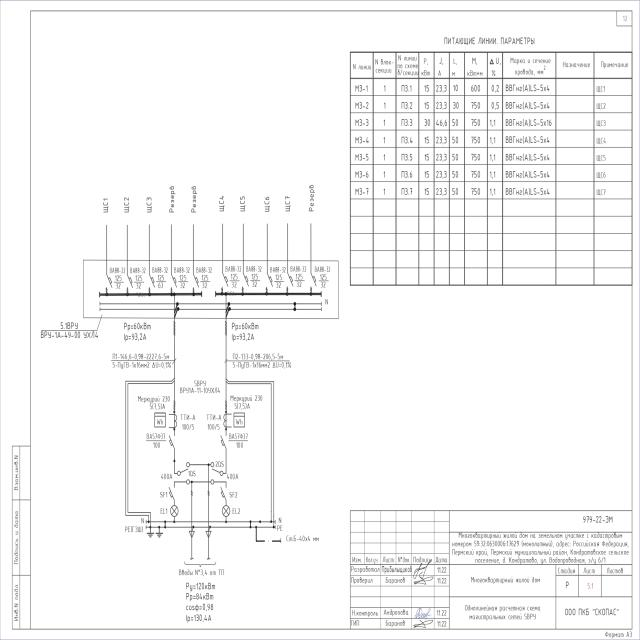-: (230, 394, 263, 410), (137, 395, 170, 411), (179, 385, 222, 395), (228, 431, 249, 450), (146, 432, 168, 450), (180, 413, 197, 431), (207, 414, 222, 431), (226, 472, 240, 482), (160, 472, 173, 482)
HL: (170, 505, 179, 517), (222, 504, 230, 517)
QF: (168, 432, 176, 450), (220, 432, 228, 450), (220, 485, 228, 502), (168, 484, 175, 501)
TT: (223, 412, 233, 430), (168, 412, 178, 430)
WH: (233, 412, 246, 428), (154, 412, 166, 428)
switch: (209, 461, 224, 486), (177, 462, 191, 486)
